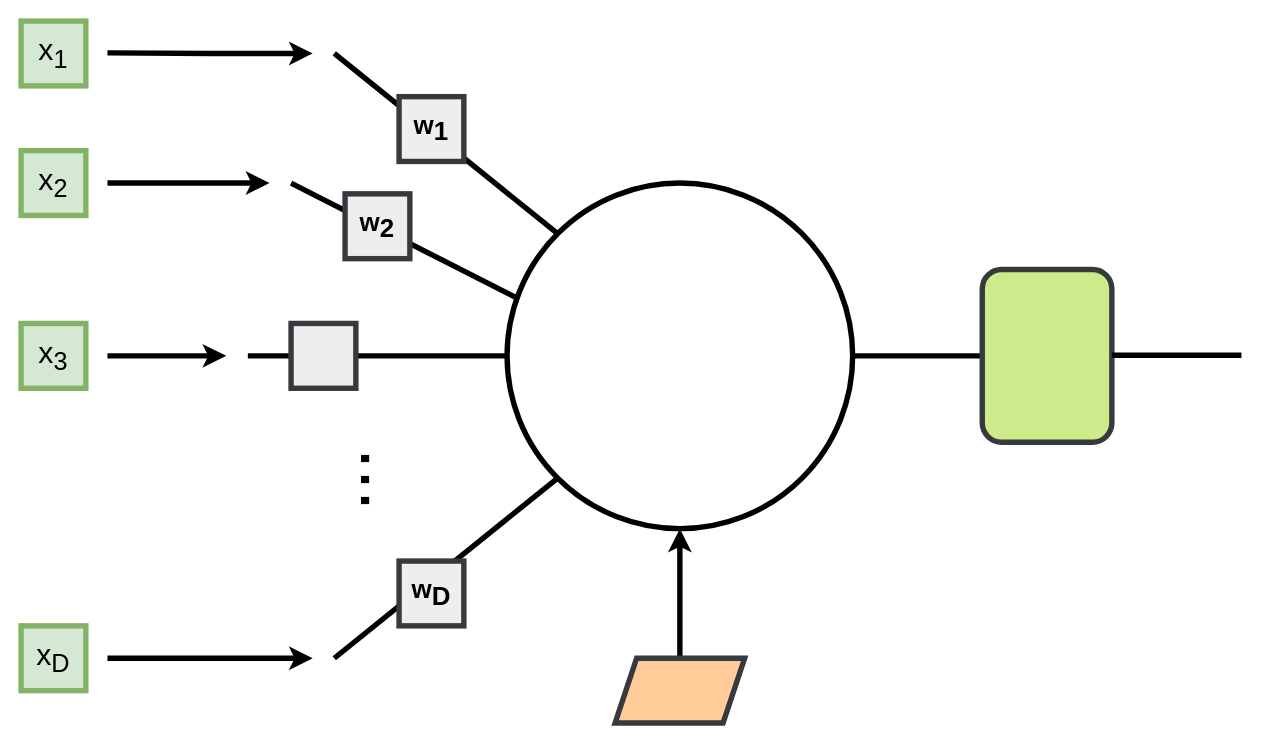
Some shapes in this 1264 by 744 pixel diagram are drawn without their labels. The shapes that lost their labels are listed below. From the top down, each one's centre as x and y in pixels, then its label:
At point (323, 355): "w 3".
At point (679, 690): "bias".
